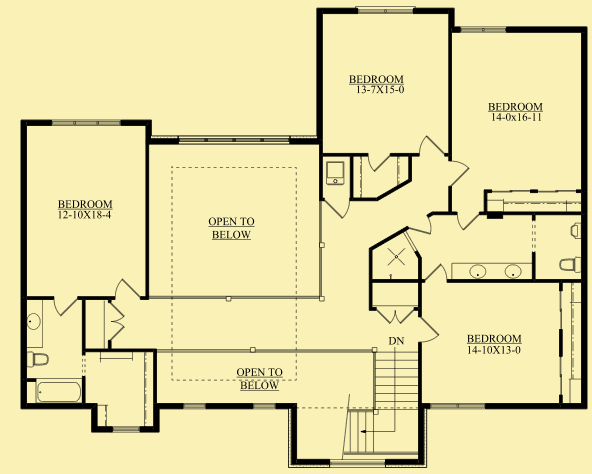door: (105, 301, 128, 342), (405, 212, 436, 239), (320, 197, 351, 223), (47, 293, 78, 316), (419, 312, 442, 342), (417, 133, 448, 155), (449, 160, 473, 188), (454, 212, 483, 234), (376, 308, 413, 325), (113, 278, 139, 302), (368, 151, 395, 171), (423, 262, 448, 282)
large_sink: (28, 349, 53, 372), (558, 253, 581, 275)
small_sink: (449, 261, 534, 281), (27, 297, 45, 349)
stairs: (339, 349, 421, 457)
tub: (34, 379, 82, 403)
window: (176, 133, 294, 145), (355, 2, 420, 17), (50, 117, 123, 129), (330, 458, 388, 472), (459, 25, 504, 34), (109, 423, 139, 436), (248, 401, 279, 409), (183, 400, 207, 410)
